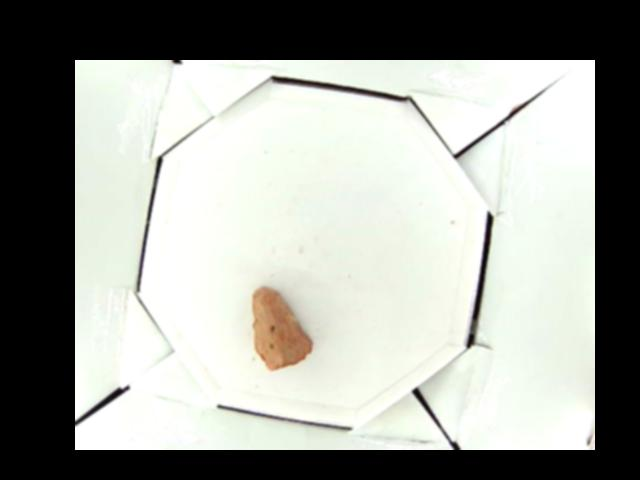Brisk: (253, 289, 313, 371)
